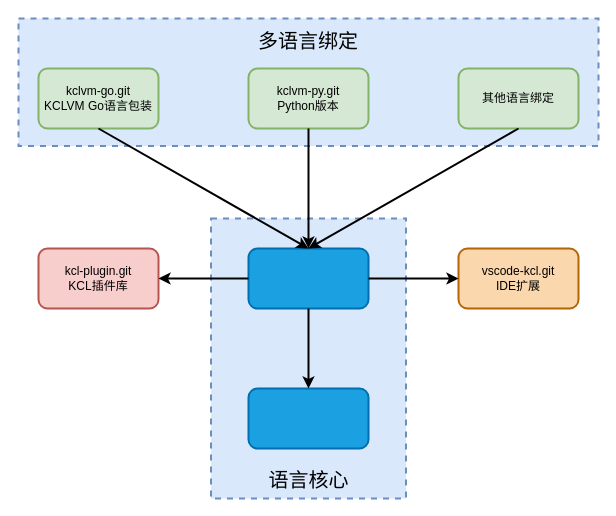
Some shapes in this 616 by 516 pixel diagram are drawn without their labels. Each missing label, with the centre of its shape:
kclvm.git KCL核心库: the point at 308,278
KEP.git KCL语言提案: the point at 308,418
